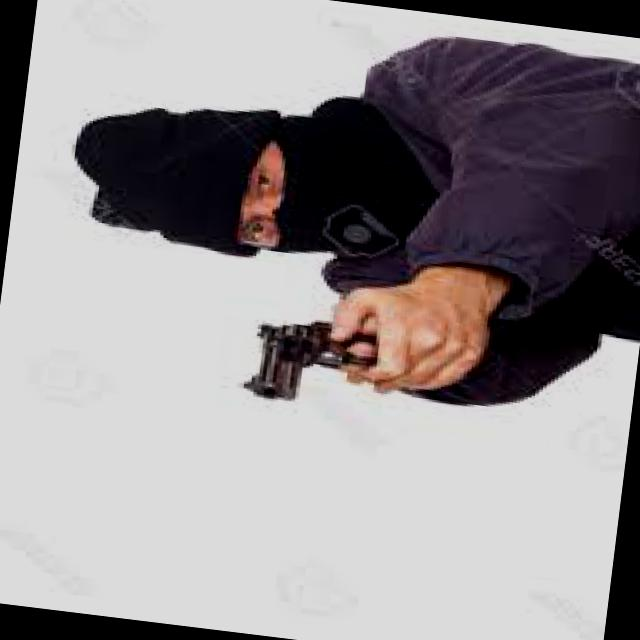handgun: (231, 304, 392, 418)
